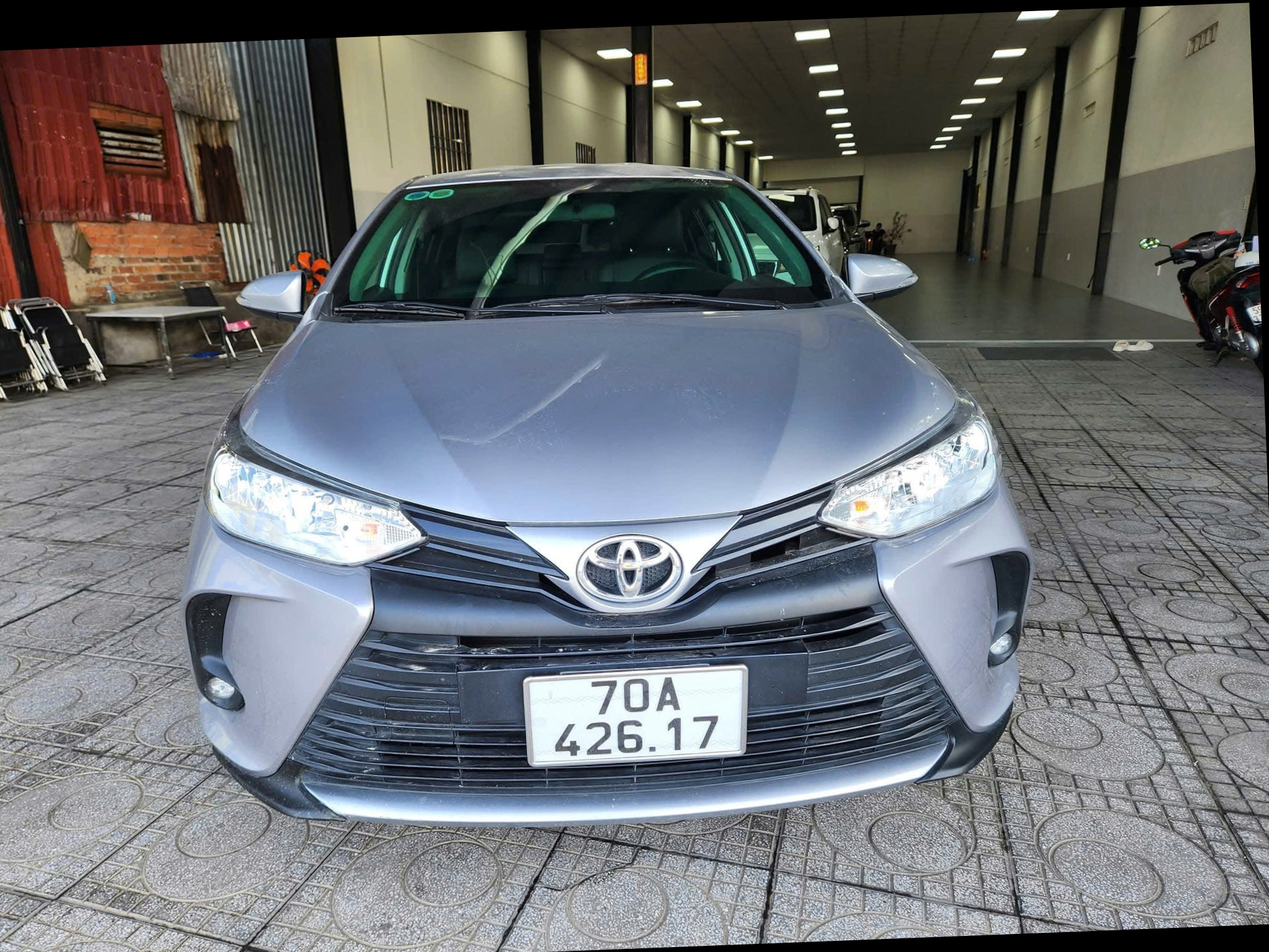Bien-so: (519, 665, 732, 776)
